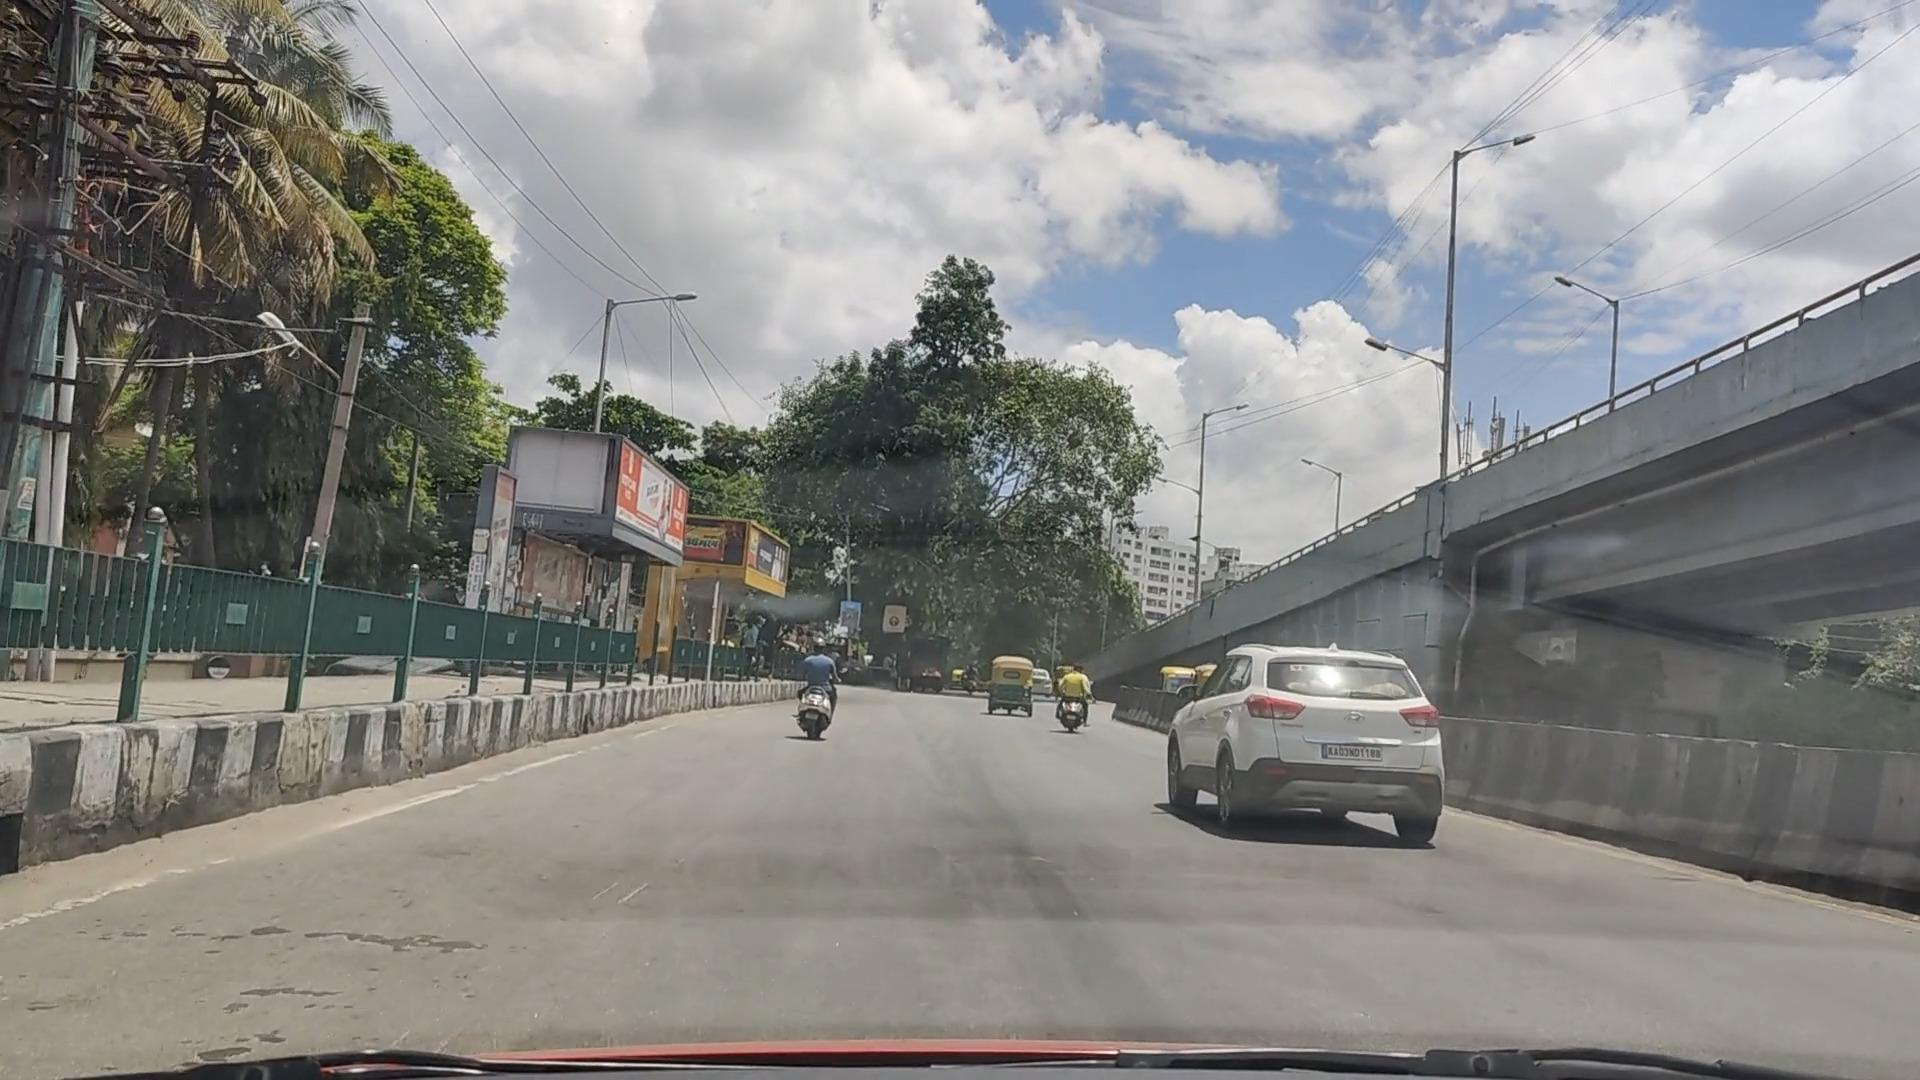LMV: (1163, 616, 1435, 861), (793, 621, 836, 744)
RoadDamages: (212, 873, 418, 981)
